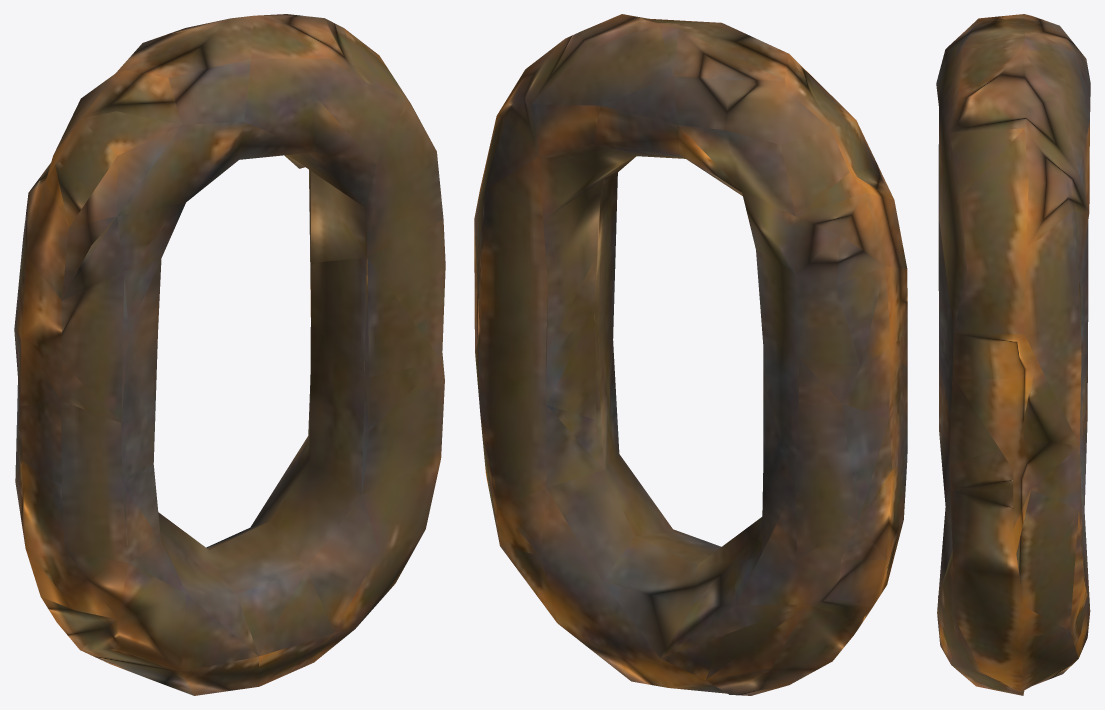
File: package_chain.glb
The picture shows the model from 3 angles, left to right: view 1: azimuth 30°, elevation 25°; view 2: azimuth 150°, elevation 25°; view 3: azimuth 270°, elevation 25°; orthographic projection. The views are drawn at different scales.
Visible parts, largest first — view 1: chain_link; view 2: chain_link; view 3: chain_link.
Boxes of the visible parts, <box> form: chain_link: <box>14,14,445,695</box>; chain_link: <box>474,14,907,695</box>; chain_link: <box>936,14,1090,695</box>.
Bounding box in the file's own units: 0.359 × 0.5472 × 0.12.
Materials: 1 (1 with a texture image).
